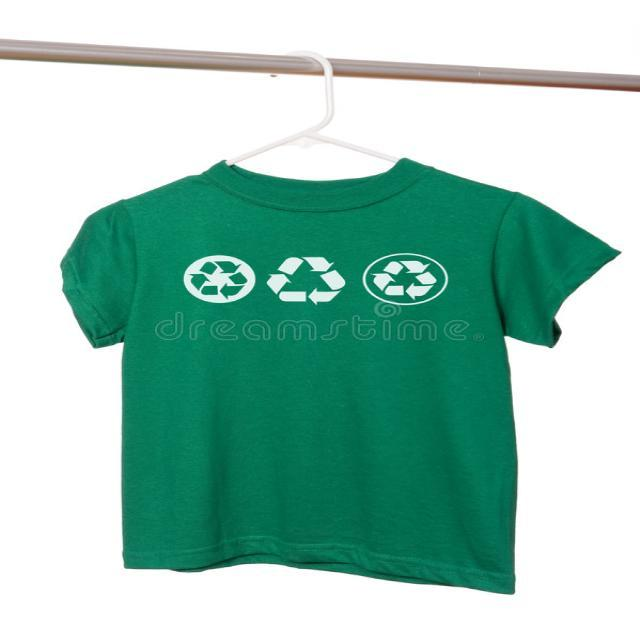clothes: (90, 172, 568, 595)
